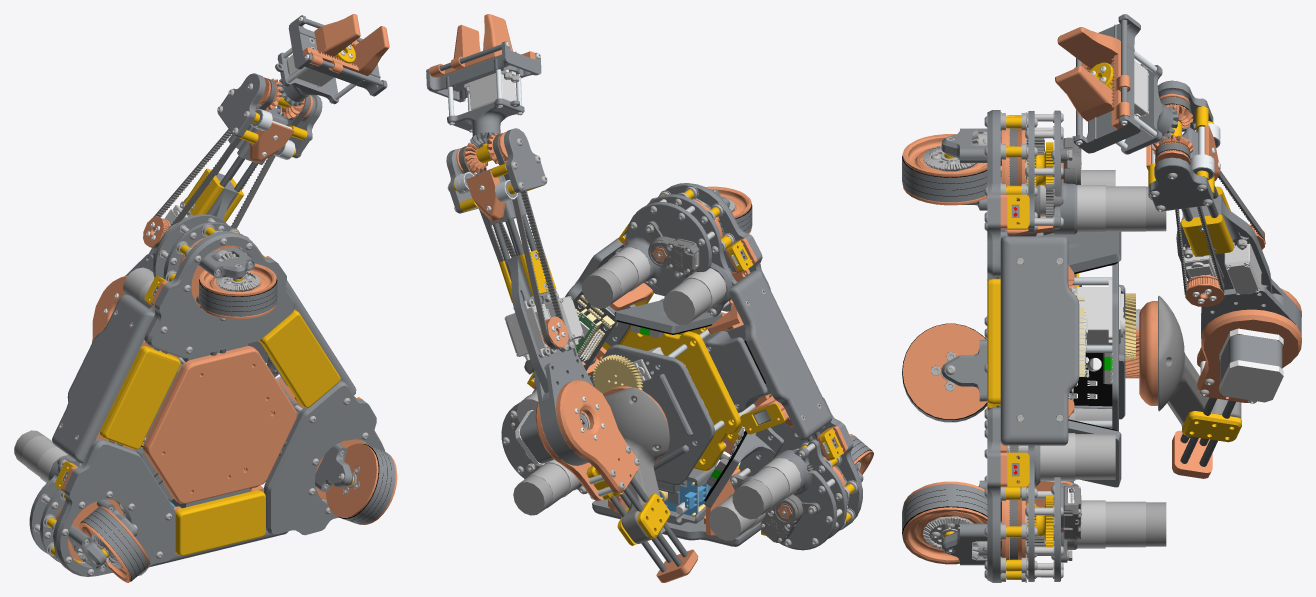
The model's file is Swerve_Assembly.web.glb.
3 renders of one model, left to right at view 1: azimuth 30°, elevation 25°; view 2: azimuth 150°, elevation 25°; view 3: azimuth 270°, elevation 25°, orthographic. The views are drawn at different scales.
Size of the model in its own units: 0.4125 by 0.4951 by 0.3043.
